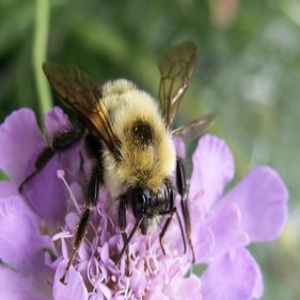bee: (42, 46, 212, 250)
